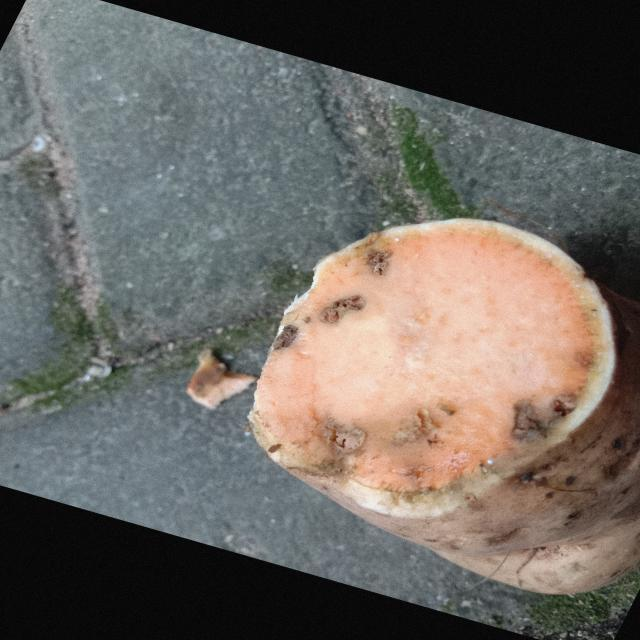Sick Sweet Potato_Tuber Rot: (250, 220, 615, 518)
